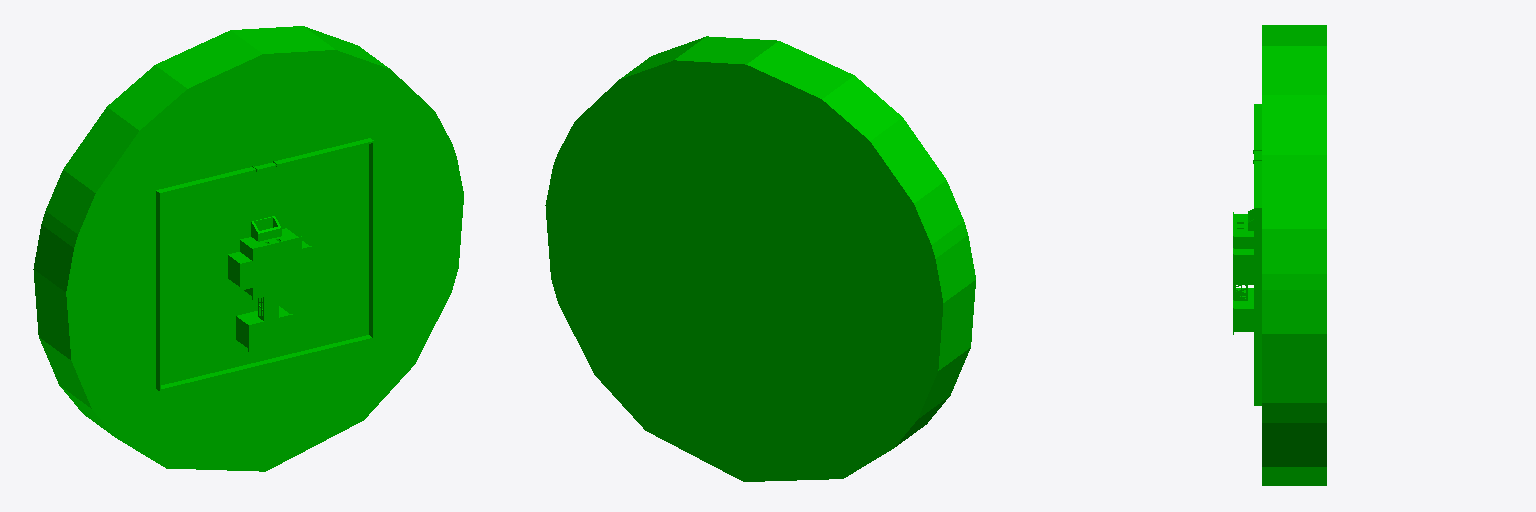
Rendered from lab_0000_col.obj.
The picture shows the model from 3 angles: view 1: azimuth 30°, elevation 25°; view 2: azimuth 150°, elevation 25°; view 3: azimuth 270°, elevation 25°; orthographic projection.
Visible parts, largest first — view 1: COLLISION.013_Cube.077; view 2: COLLISION.013_Cube.077; view 3: COLLISION.013_Cube.077.
Boxes of the visible parts, <box> form: COLLISION.013_Cube.077: <box>33,26,463,471</box>; COLLISION.013_Cube.077: <box>545,36,975,481</box>; COLLISION.013_Cube.077: <box>1233,25,1326,485</box>.
Size of the model in its own units: 2893 by 2905 by 592.